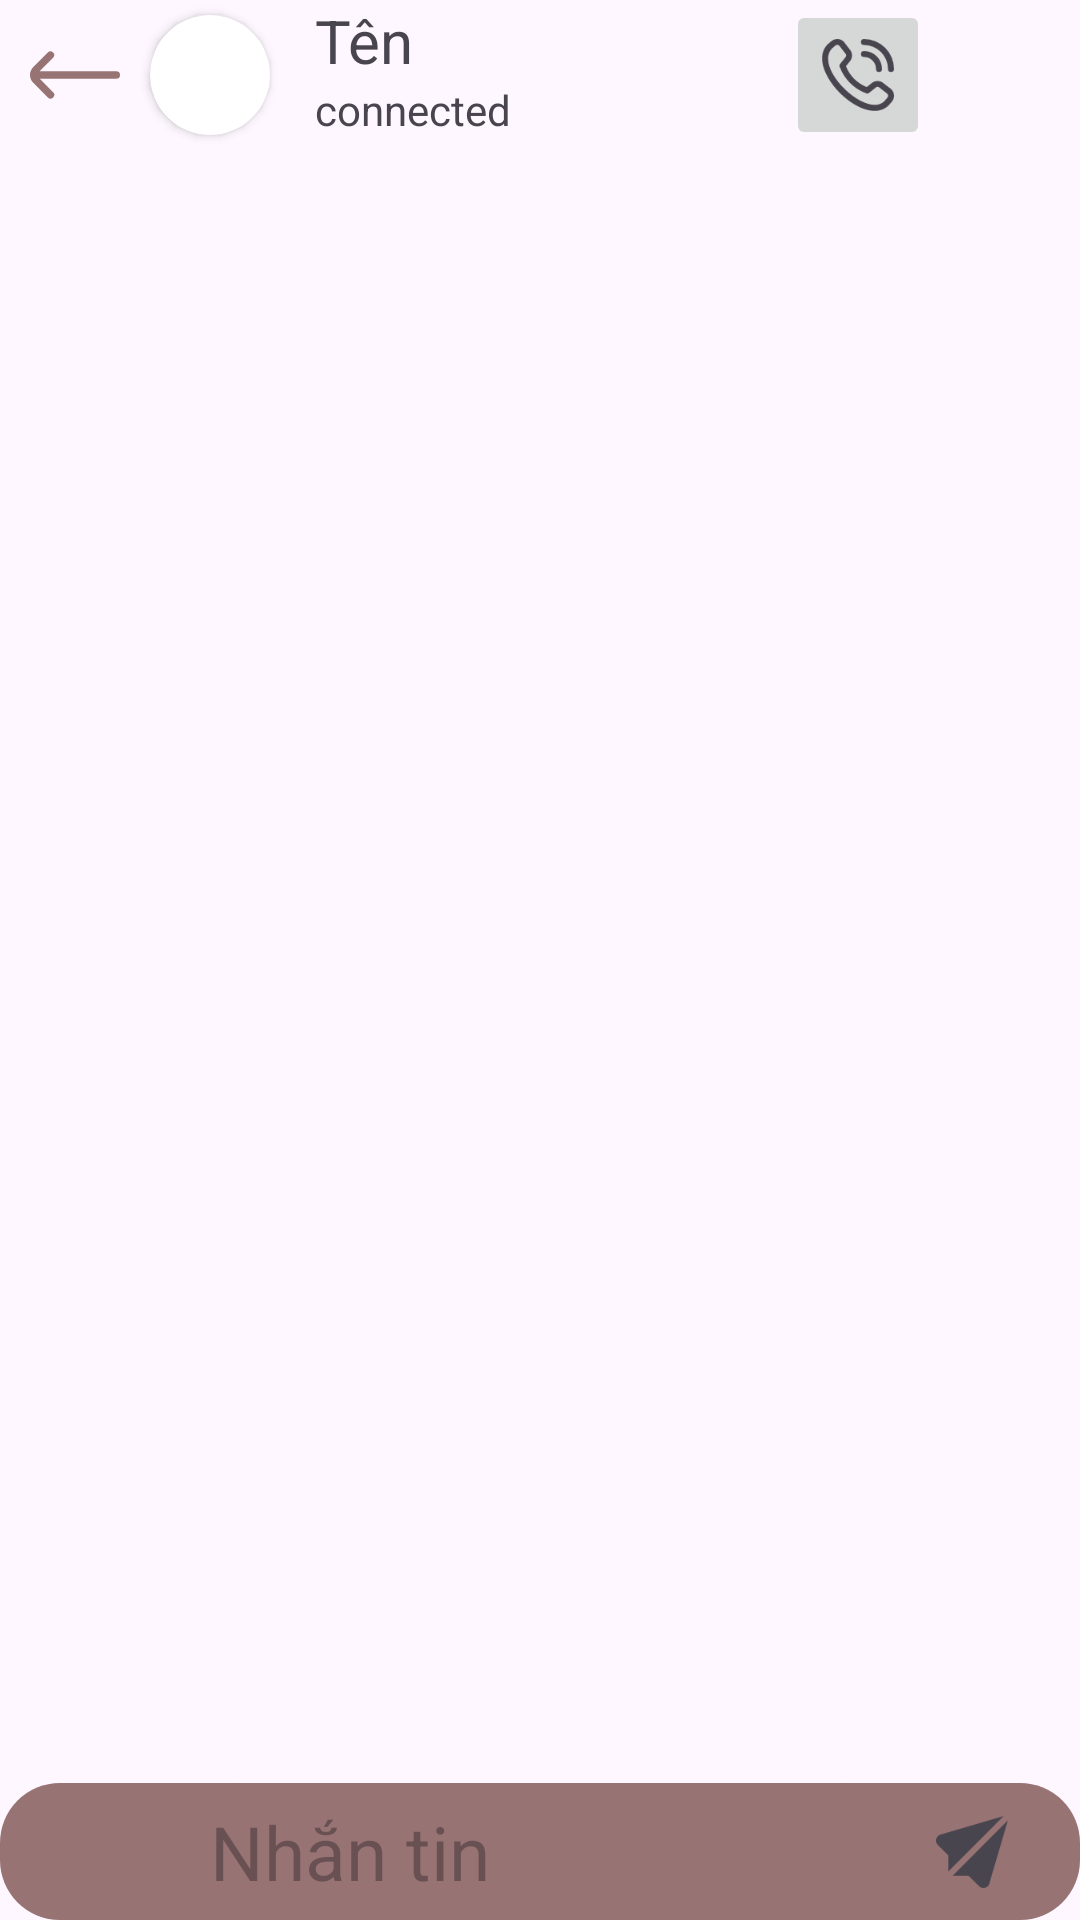

Screen size 1080x1920. Icon name, then its center in pixels as point (x, y):
call: point (858, 75)
plane: point (972, 1851)
